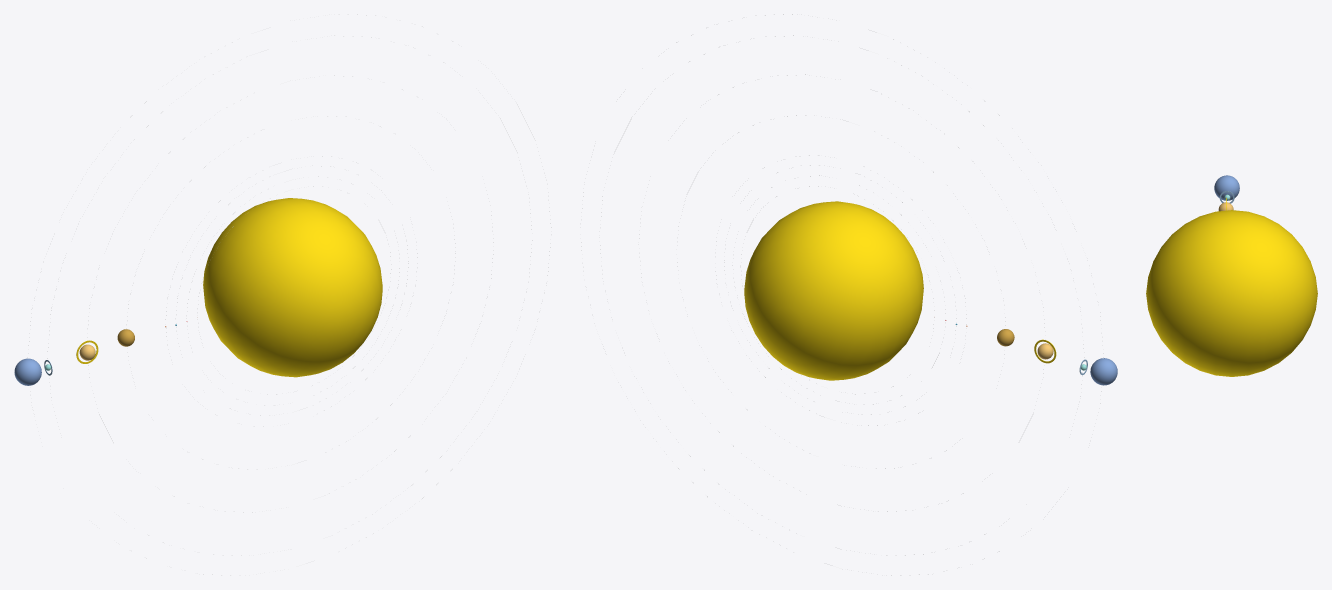
The model's file is Solar System2.glb.
3 renders of one model, left to right at view 1: azimuth 30°, elevation 25°; view 2: azimuth 150°, elevation 25°; view 3: azimuth 270°, elevation 25°, orthographic. The views are drawn at different scales.
Parts seen in each view (by area): view 1: Part 1; view 2: Part 1; view 3: Part 1 (×2).
Part boxes in pixels (left/top/right/bottom): Part 1: left=203, top=198, right=382, bottom=377; Part 1: left=744, top=201, right=923, bottom=380; Part 1 (×2): left=1146, top=175, right=1317, bottom=376.
Size of the model in its own units: 3.51 by 3.43 by 1.04.
